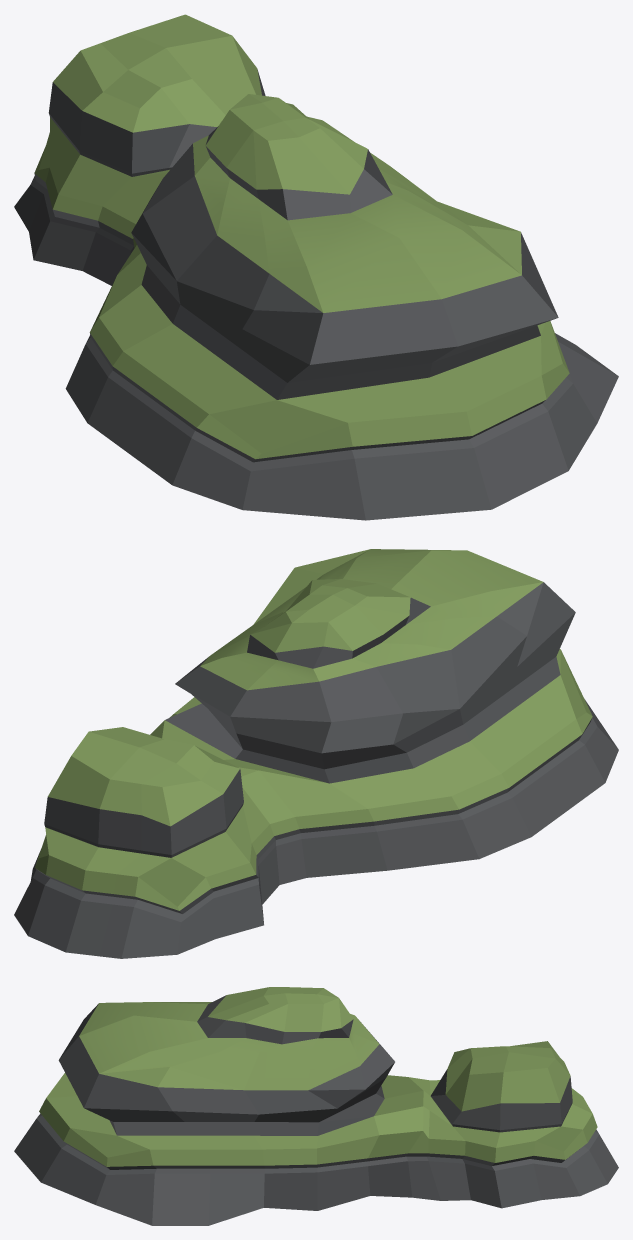
The model's file is hill1.fbx.
3 views of the same model, one above another, from view 1: azimuth 30°, elevation 25°; view 2: azimuth 150°, elevation 25°; view 3: azimuth 270°, elevation 25° (orthographic). The views are drawn at different scales.
Visible parts, largest first — view 1: polySurface3; view 2: polySurface3; view 3: polySurface3.
Part boxes in pixels (x1=…): polySurface3: x1=14, y1=14, x2=618, y2=520; polySurface3: x1=14, y1=549, x2=618, y2=958; polySurface3: x1=14, y1=987, x2=618, y2=1225.
Bounding box in the file's own units: 2.89 × 1.48 × 5.15.
